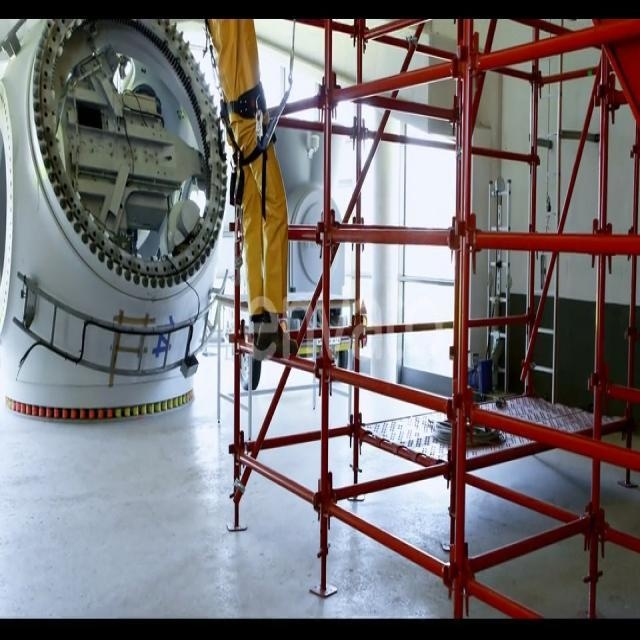Arnes_seguridad: (199, 6, 266, 210)
